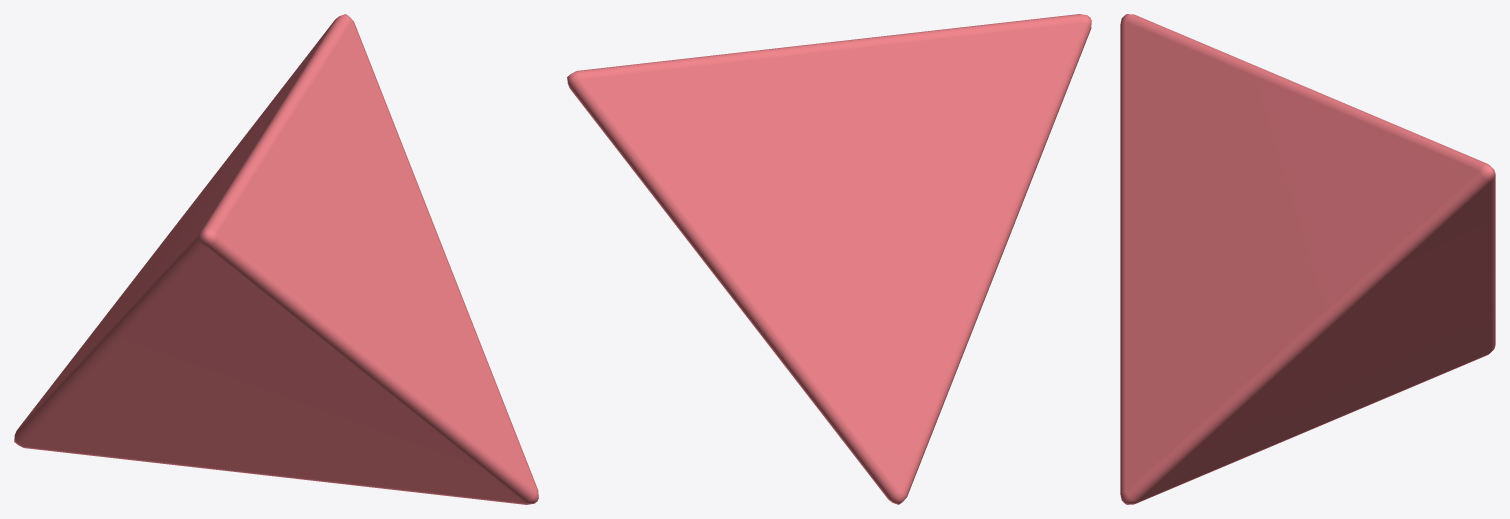
Rendered from tetrahedron.glb.
3 views of the same model, side by side, from view 1: azimuth 30°, elevation 25°; view 2: azimuth 150°, elevation 25°; view 3: azimuth 270°, elevation 25° (orthographic). The views are drawn at different scales.
Parts seen in each view (by area): view 1: tetrahedron; view 2: tetrahedron; view 3: tetrahedron.
Boxes of the visible parts, x1,y1,x2,y2 form: tetrahedron: (14,14,538,504); tetrahedron: (567,14,1091,504); tetrahedron: (1120,14,1495,504).
Size of the model in its own units: 1.93 by 1.93 by 1.93.
